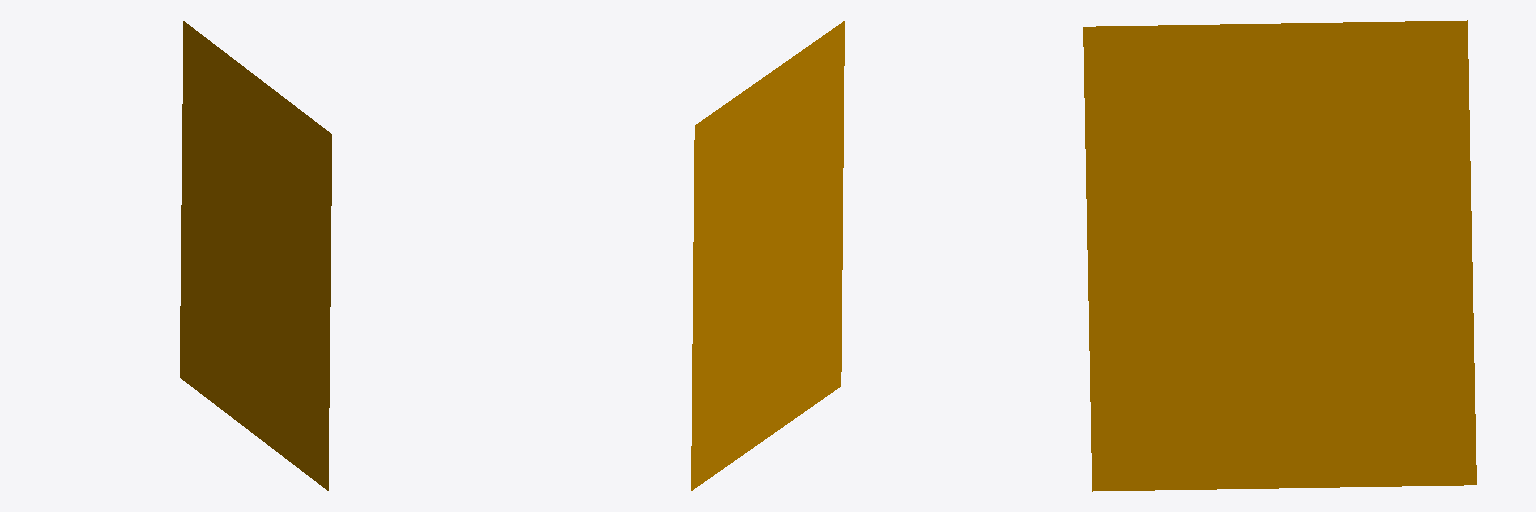
The robot description file, URDF, robot "W6Kpd71c":
<?xml version='1.0' encoding='us-ascii'?>
<robot name="W6Kpd71c">
   <link name="base_link">
      <visual>
         <origin xyz="0.0 0.0 0.0" />
         <geometry>
            <mesh filename="shape\visual\window-xdxisn-0.obj" />
         </geometry>
      </visual>
      <collision>
         <origin xyz="0.0 0.0 0.0" />
         <geometry>
            <mesh filename="shape\collision\window-xdxisn-0.obj" />
         </geometry>
      </collision>
   </link>
</robot>

--- Render facts (derived) ---
3 views of the same robot in one strip: view 1: azimuth 30°, elevation 25°; view 2: azimuth 150°, elevation 25°; view 3: azimuth 270°, elevation 25° (orthographic).
Robot: W6Kpd71c — 1 links, 0 joints (none); root link base_link; default pose: every joint at zero.
Visible links, largest first — view 1: base_link; view 2: base_link; view 3: base_link.
Link boxes in pixels (left/top/right/bottom): base_link: left=180, top=21, right=331, bottom=490; base_link: left=691, top=21, right=844, bottom=490; base_link: left=1083, top=20, right=1476, bottom=491.
Bounding box of the posed robot: 0 × 2.35 × 3.1 m (x, y, z).
Meshes: 1 distinct files referenced, 1 mesh visuals loaded (1 OBJ).